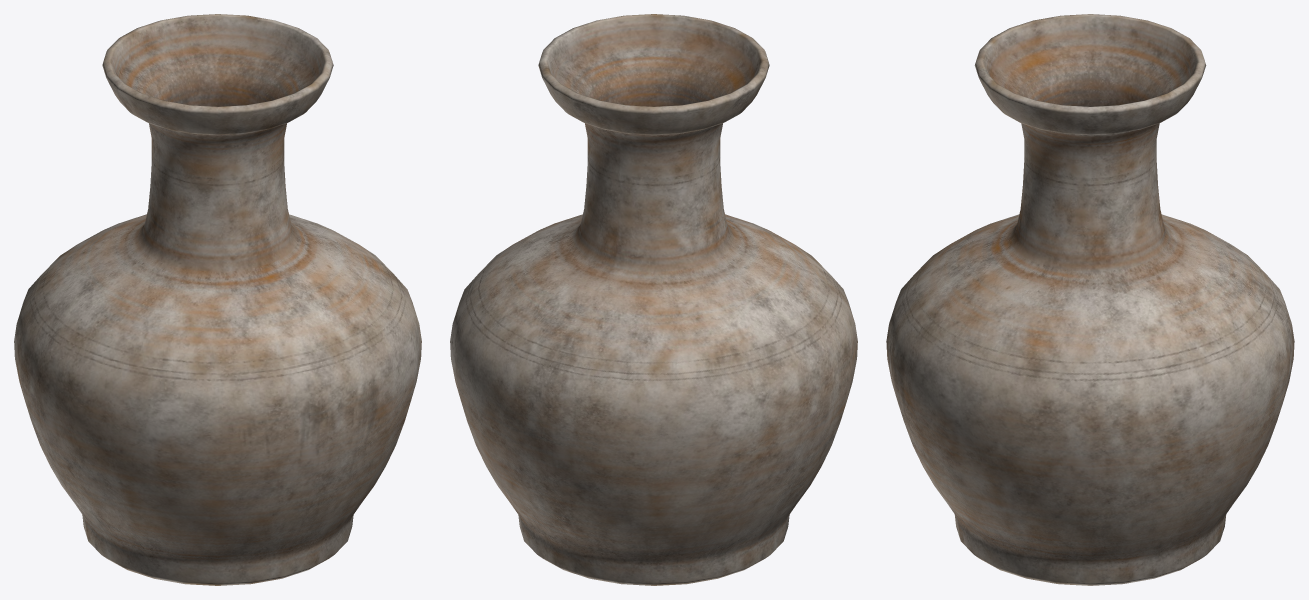
The model's file is vase.glb.
The picture shows the model from 3 angles, left to right: view 1: azimuth 30°, elevation 25°; view 2: azimuth 150°, elevation 25°; view 3: azimuth 270°, elevation 25°; orthographic projection.
Parts seen in each view (by area): view 1: G_Vase_LP; view 2: G_Vase_LP; view 3: G_Vase_LP.
Part boxes in pixels (bbox=[...]): G_Vase_LP: bbox=[14, 14, 421, 585]; G_Vase_LP: bbox=[450, 14, 857, 585]; G_Vase_LP: bbox=[886, 14, 1294, 585].
Size of the model in its own units: 72.13 by 91.92 by 72.13.
Materials: 1 (1 with a texture image).
